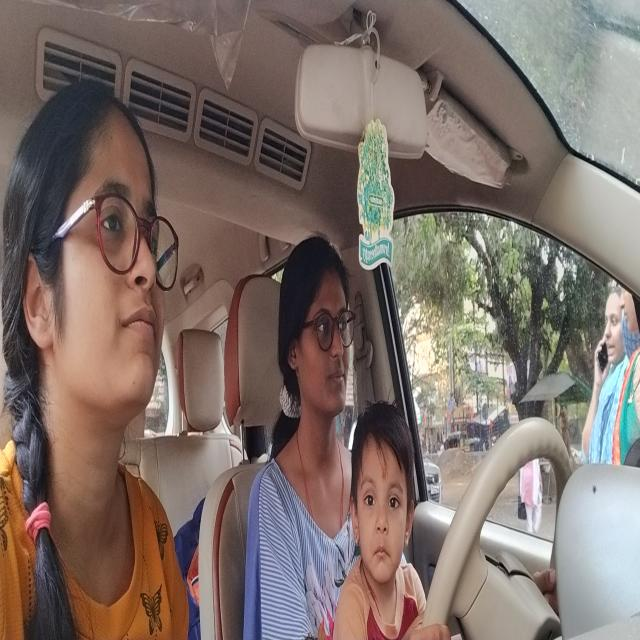child: (352, 409, 413, 579)
person: (22, 94, 173, 414), (286, 257, 351, 427)
